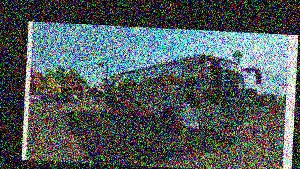bus: (103, 50, 263, 137)
